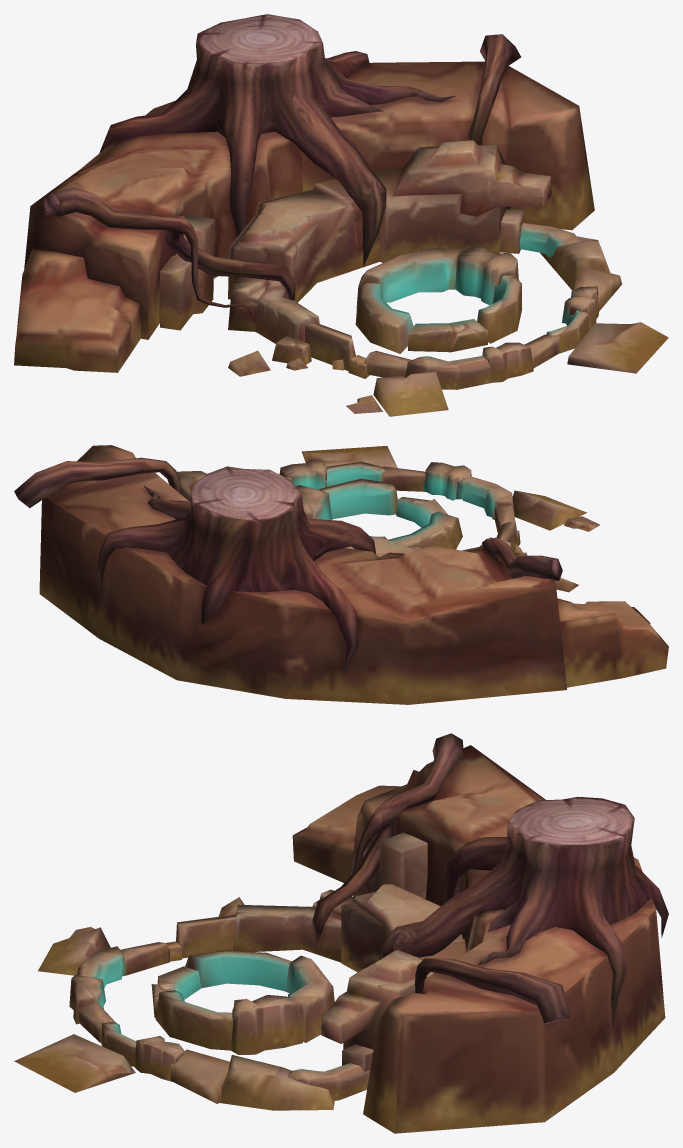
The model's file is gankudequanyan.FBX.
3 views of the same model, one above another, from view 1: azimuth 30°, elevation 25°; view 2: azimuth 150°, elevation 25°; view 3: azimuth 270°, elevation 25° (orthographic). The views are drawn at different scales.
Parts seen in each view (by area): view 1: gankudequanyan; view 2: gankudequanyan; view 3: gankudequanyan.
Part boxes in pixels (x1=…): gankudequanyan: x1=14, y1=14, x2=668, y2=416; gankudequanyan: x1=14, y1=445, x2=668, y2=704; gankudequanyan: x1=14, y1=733, x2=668, y2=1133.
Bounding box in the file's own units: 2128 × 600 × 1904.
